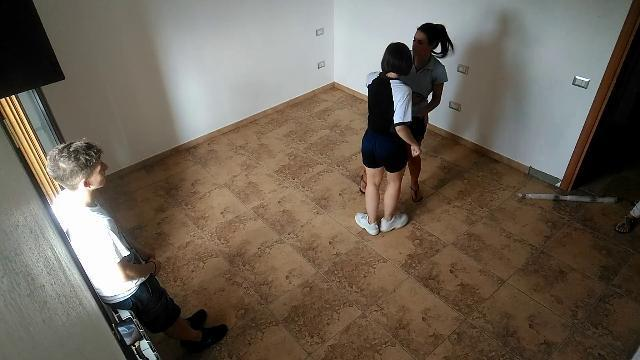non-violence: (44, 138, 232, 360)
violence: (354, 22, 454, 238)
